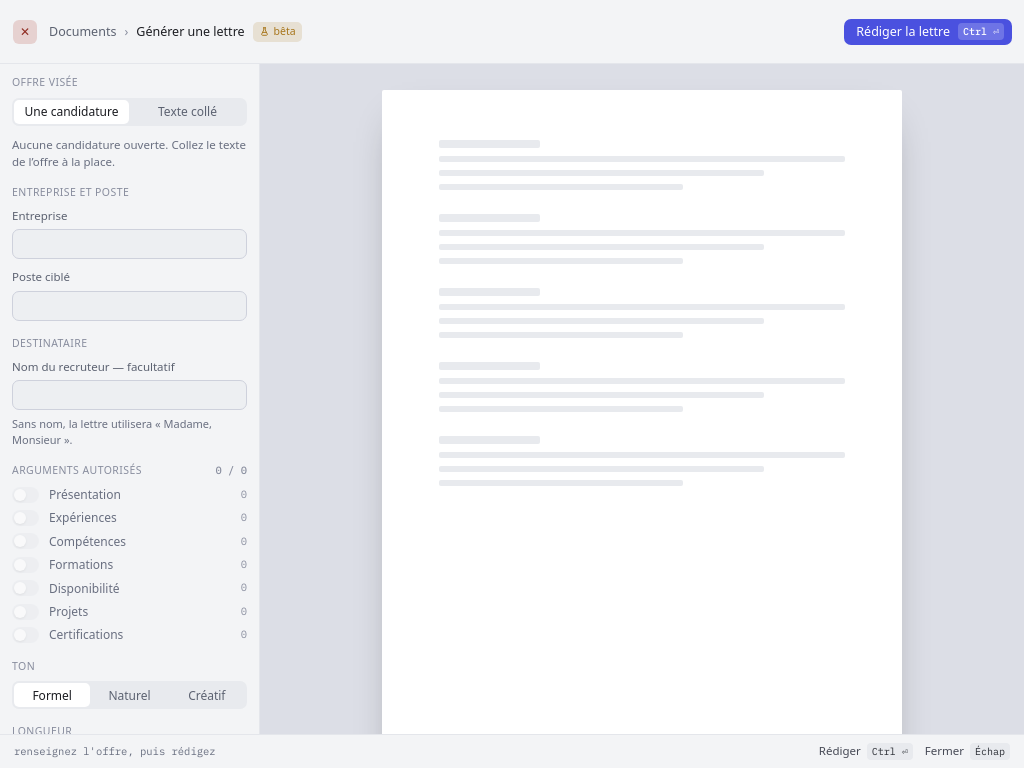
Test: collage d'une offre depuis le presse-papiers › remplit le champ avec le contenu lu côté natif
Click the tab "Texte collé" at [188, 112], box [130, 100, 245, 124]
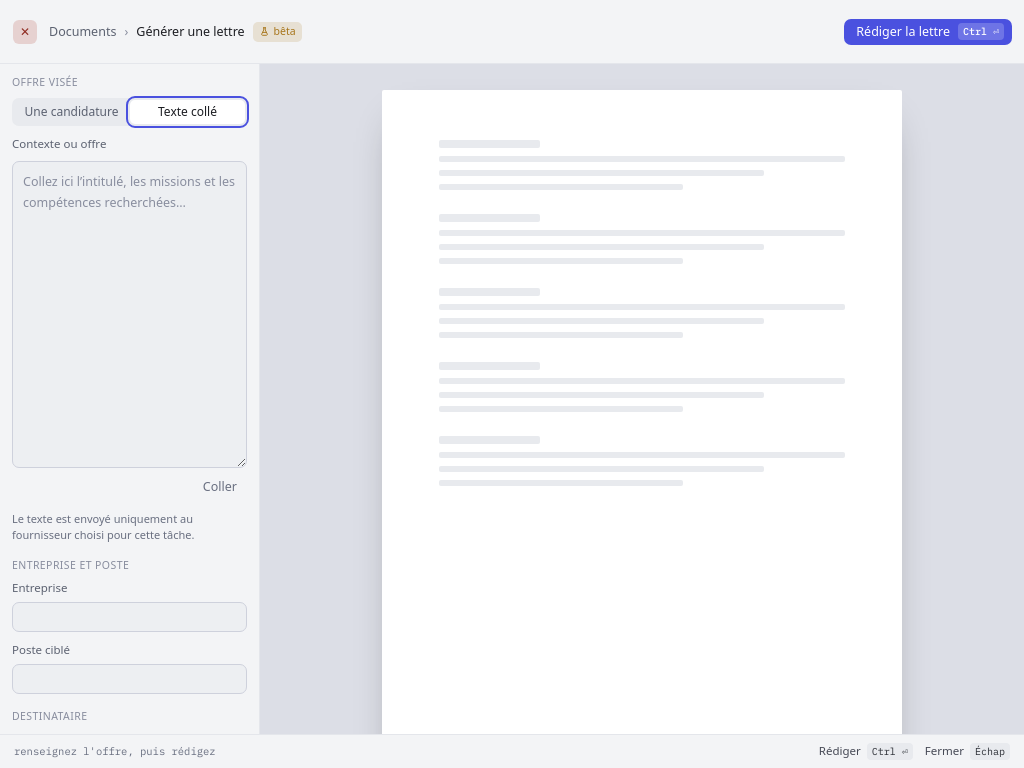
Click the button "Coller" at [220, 487], box [193, 474, 247, 501]
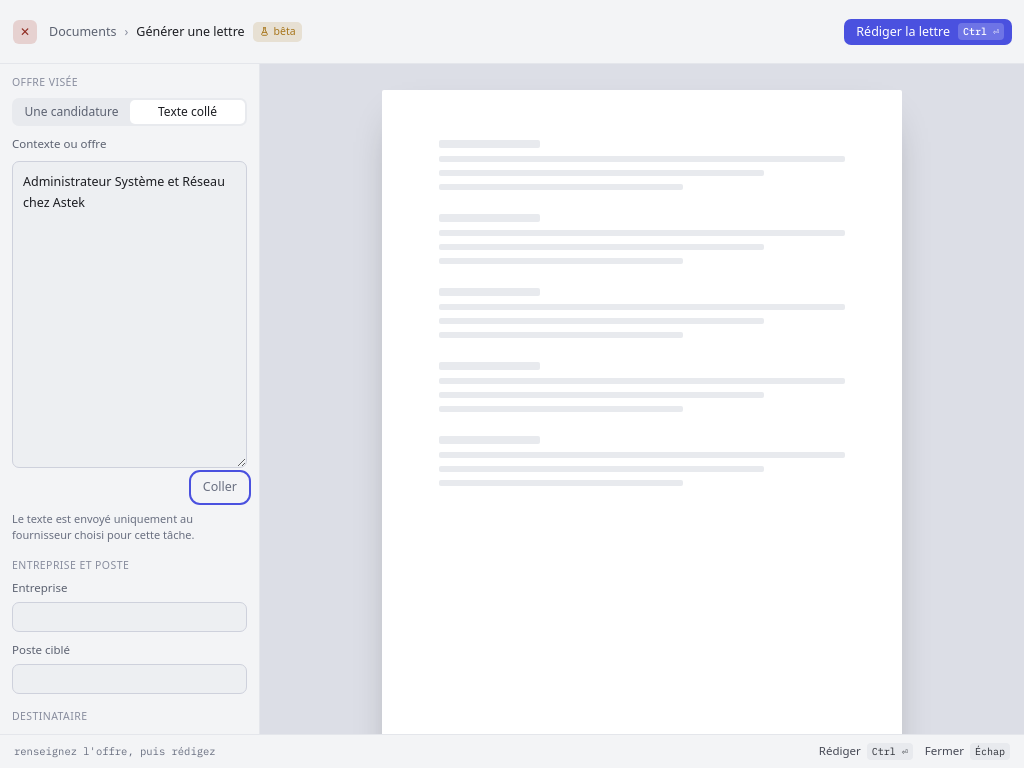
Check: the text box labelled "Contexte ou offre" holds "Administrateur Système et Réseau chez Astek", box [12, 161, 247, 468]
